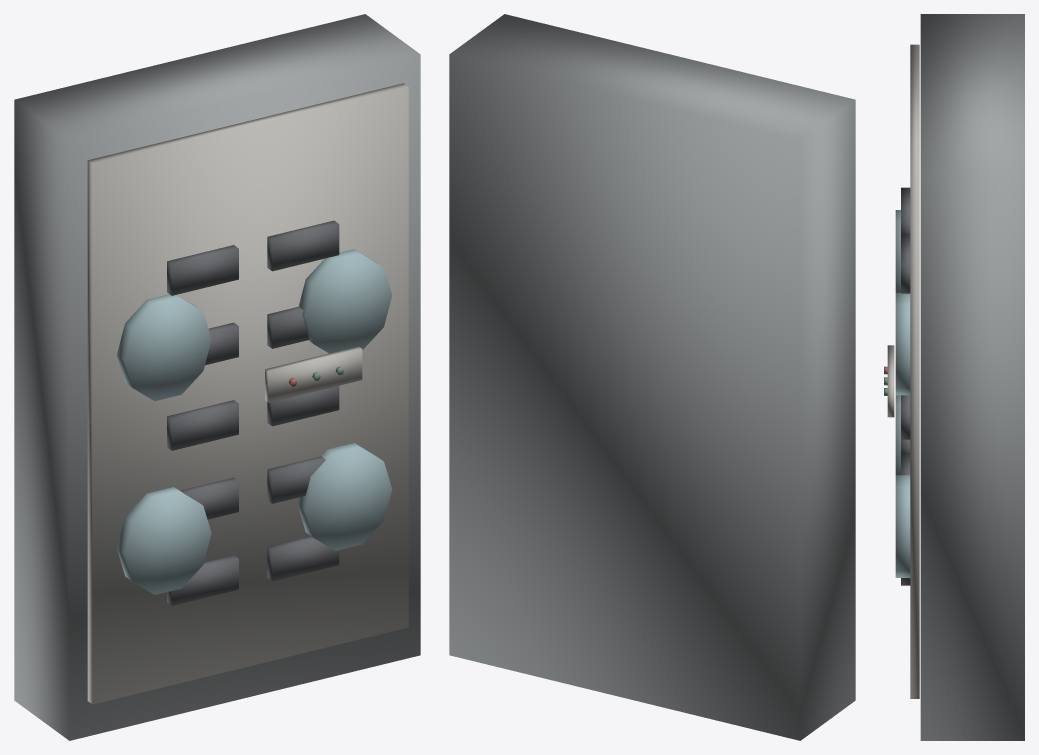
Rendered from meter_bank__compact.glb.
3 views of the same model, side by side, from view 1: azimuth 30°, elevation 25°; view 2: azimuth 150°, elevation 25°; view 3: azimuth 270°, elevation 25° (orthographic). The views are drawn at different scales.
Visible parts, largest first — view 1: world; view 2: world; view 3: world.
Boxes of the visible parts, x1,y1,x2,y2 form: world: (14,14,420,740); world: (449,14,855,740); world: (884,14,1024,740).
Size of the model in its own units: 0.882 by 1.44 by 0.3255.
